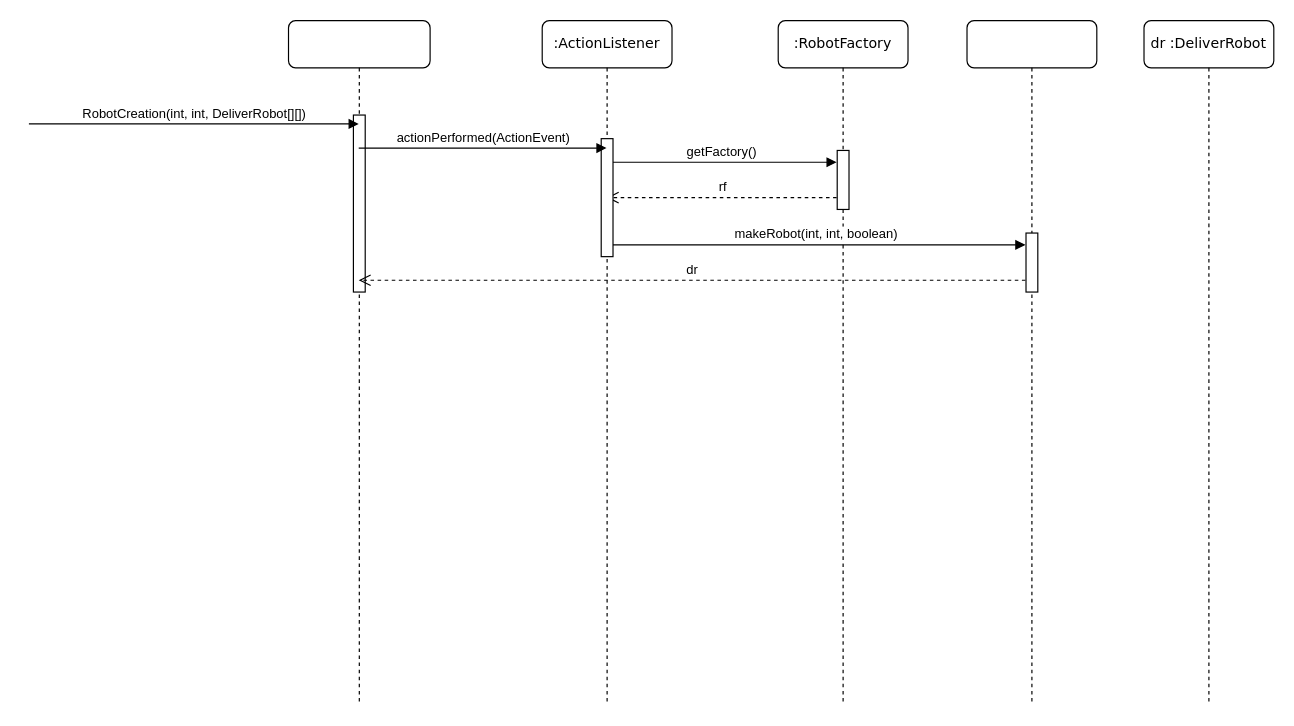
This 1294x726 diagram has some shape labels left out. The box of each missing label's shape, as (x1, y1, x2, y2) in pixels:
rc :RobotCreation: (287, 19, 430, 705)
rf :RobotFactory: (966, 19, 1097, 705)
